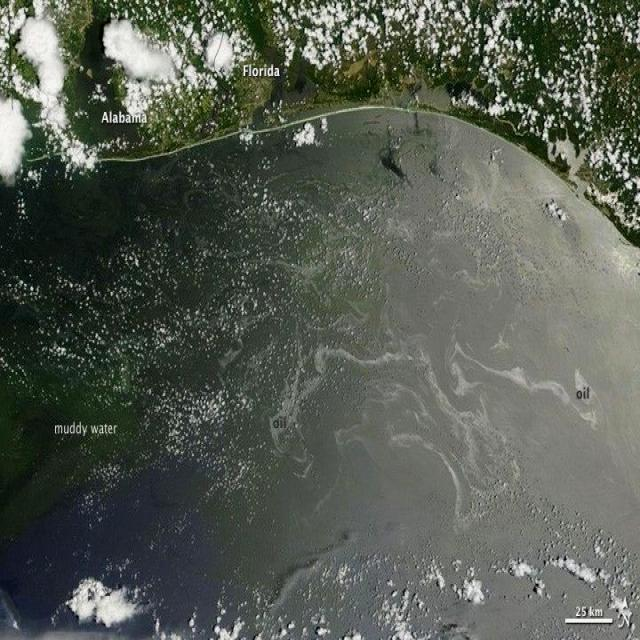oil spill: (285, 282, 605, 493), (407, 146, 537, 271)
